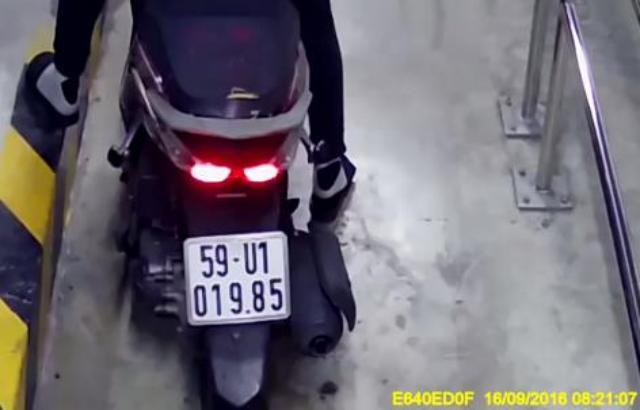plate: (176, 233, 300, 330)
